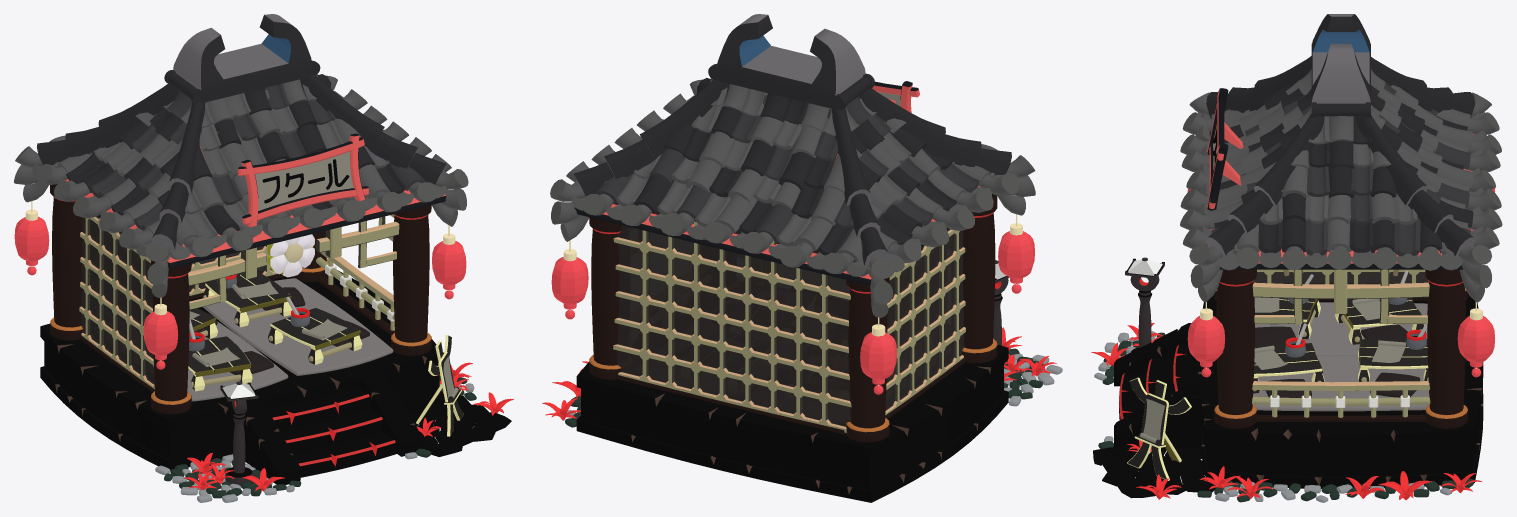
Rendered from plazaLago.glb.
The picture shows the model from 3 angles, left to right: view 1: azimuth 30°, elevation 25°; view 2: azimuth 150°, elevation 25°; view 3: azimuth 270°, elevation 25°; orthographic projection. The views are drawn at different scales.
Visible parts, largest first — view 1: object 1; view 2: object 1; view 3: object 1.
Part boxes in pixels (<box>): object 1: <box>14,14,513,502</box>; object 1: <box>542,14,1062,502</box>; object 1: <box>1091,14,1502,502</box>.
Size of the model in its own units: 5.45 by 5.36 by 5.19.
Materials: 3 (3 with a texture image).
